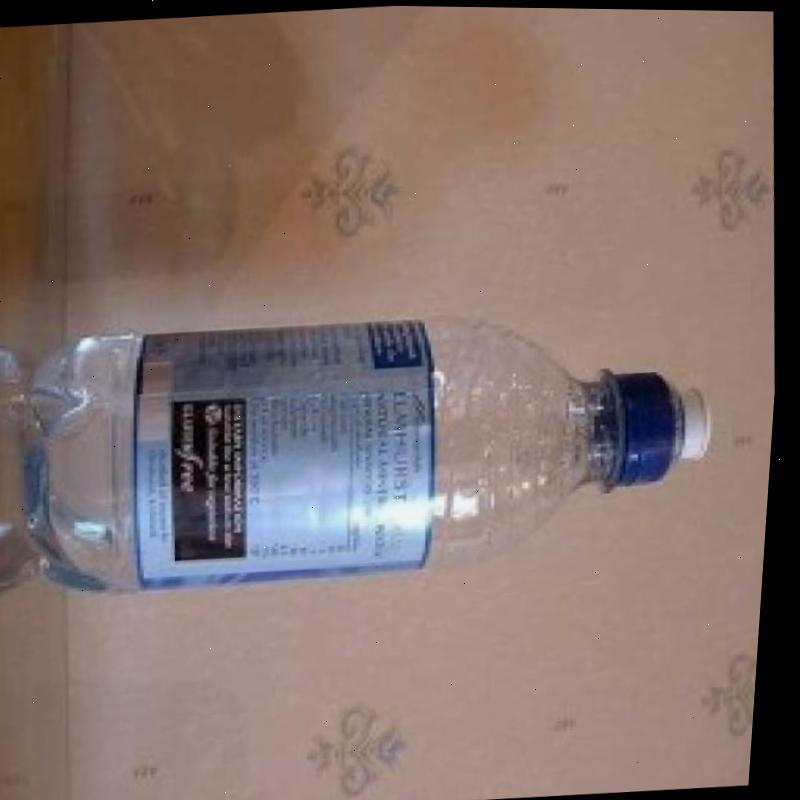botella: (7, 291, 734, 613)
